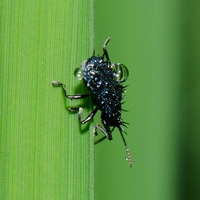insect: (52, 37, 131, 166)
